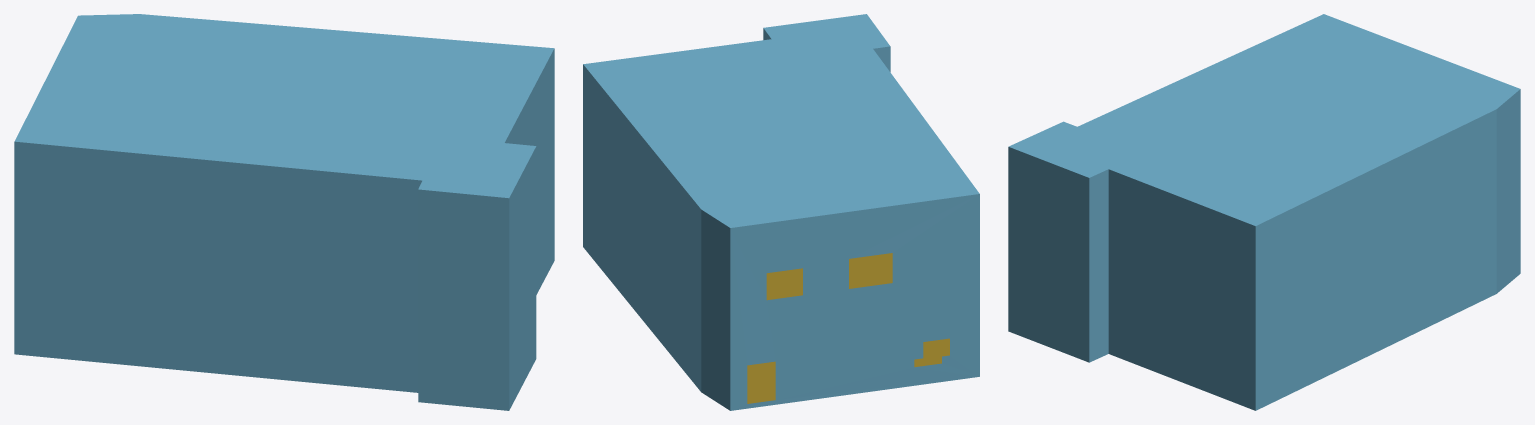
The model's file is bldg_134041db-5099-4b29-afff-6e5d45713789.obj.
The picture shows the model from 3 angles, left to right: view 1: azimuth 30°, elevation 25°; view 2: azimuth 150°, elevation 25°; view 3: azimuth 270°, elevation 25°; orthographic projection. The views are drawn at different scales.
Bounding box in the file's own units: 19.53 × 7.93 × 19.92.
